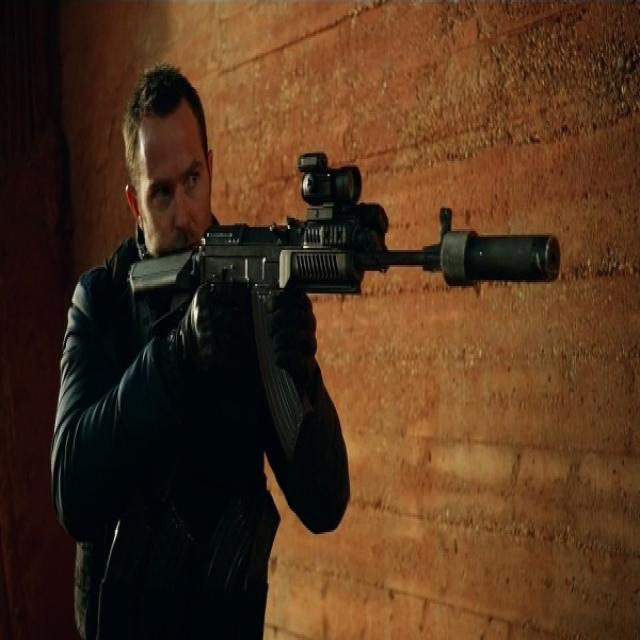rifle: (121, 142, 562, 468)
